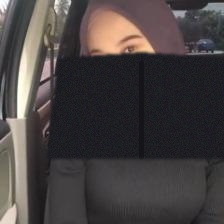Cadar_Niqab: (45, 0, 224, 158)
